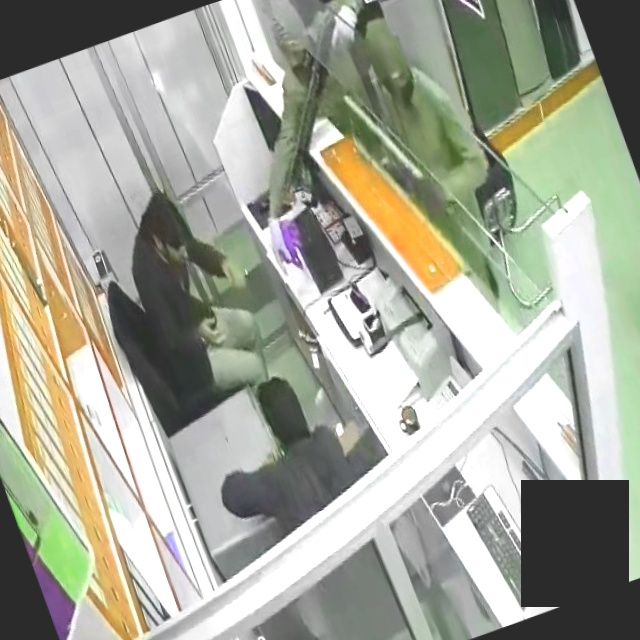gun: (227, 0, 395, 205), (340, 71, 443, 221)
